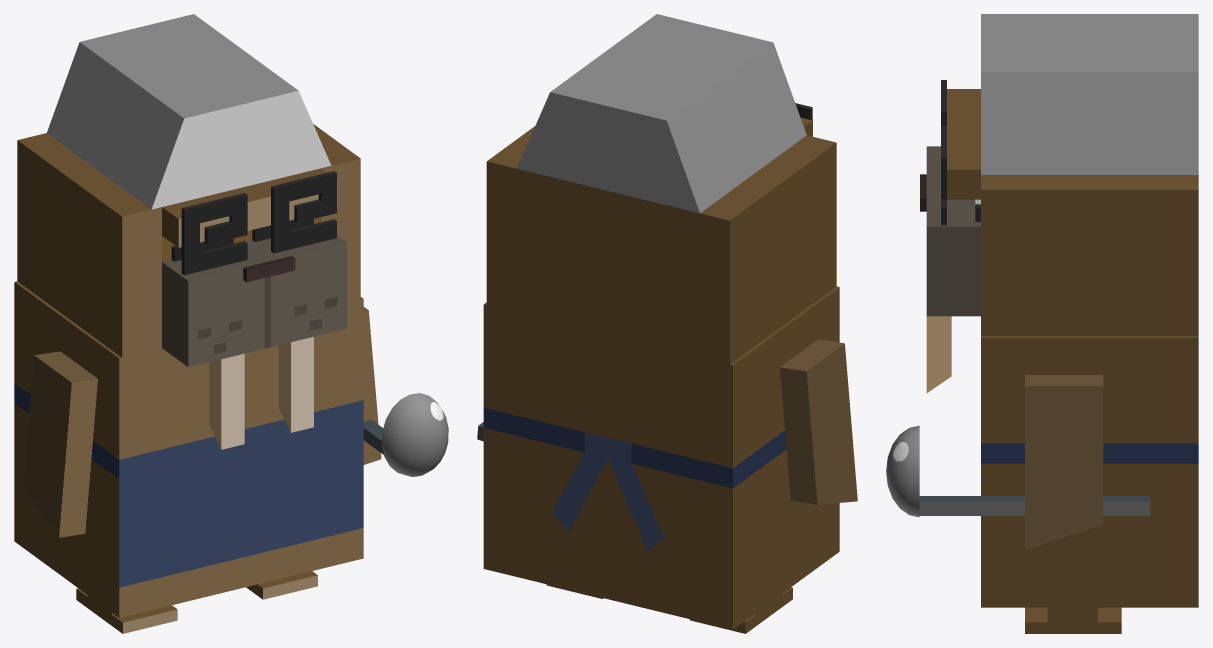
3 views of the same model, side by side, from view 1: azimuth 30°, elevation 25°; view 2: azimuth 150°, elevation 25°; view 3: azimuth 270°, elevation 25° (orthographic). The views are drawn at different scales.
Parts seen in each view (by area): view 1: Ch_186_Head, Ch_186, Ch_186_Arm_L, Ch_186_Arm_R, Ch_186_Eye_03_L, Ch_186_Eye_03_R, Ch_186_Leg_L, Ch_186_Leg_R, Ch_186_Eye_02; view 2: Ch_186_Head, Ch_186, Ch_186_Arm_L, Ch_186_Leg_L; view 3: Ch_186_Head, Ch_186, Ch_186_Arm_R, Ch_186_Leg_R, Ch_186_Eye_03_R.
Boxes of the visible parts, box(x1,y1,x2,y2) form: Ch_186_Head: box(17, 14, 360, 449); Ch_186: box(14, 281, 363, 617); Ch_186_Arm_L: box(23, 351, 97, 537); Ch_186_Arm_R: box(363, 307, 448, 476); Ch_186_Eye_03_L: box(181, 193, 247, 275); Ch_186_Eye_03_R: box(271, 171, 336, 253); Ch_186_Leg_L: box(76, 588, 177, 633); Ch_186_Leg_R: box(246, 571, 317, 599); Ch_186_Eye_02: box(171, 219, 313, 261); Ch_186_Head: box(486, 14, 836, 364); Ch_186: box(483, 286, 839, 629); Ch_186_Arm_L: box(780, 339, 857, 504); Ch_186_Leg_L: box(689, 587, 792, 633); Ch_186_Head: box(920, 14, 1198, 392); Ch_186: box(981, 336, 1198, 607); Ch_186_Arm_R: box(886, 375, 1150, 549); Ch_186_Leg_R: box(1025, 607, 1121, 633); Ch_186_Eye_03_R: box(941, 125, 946, 225).
Size of the model in its own units: 8.85 by 13.14 by 6.88.
